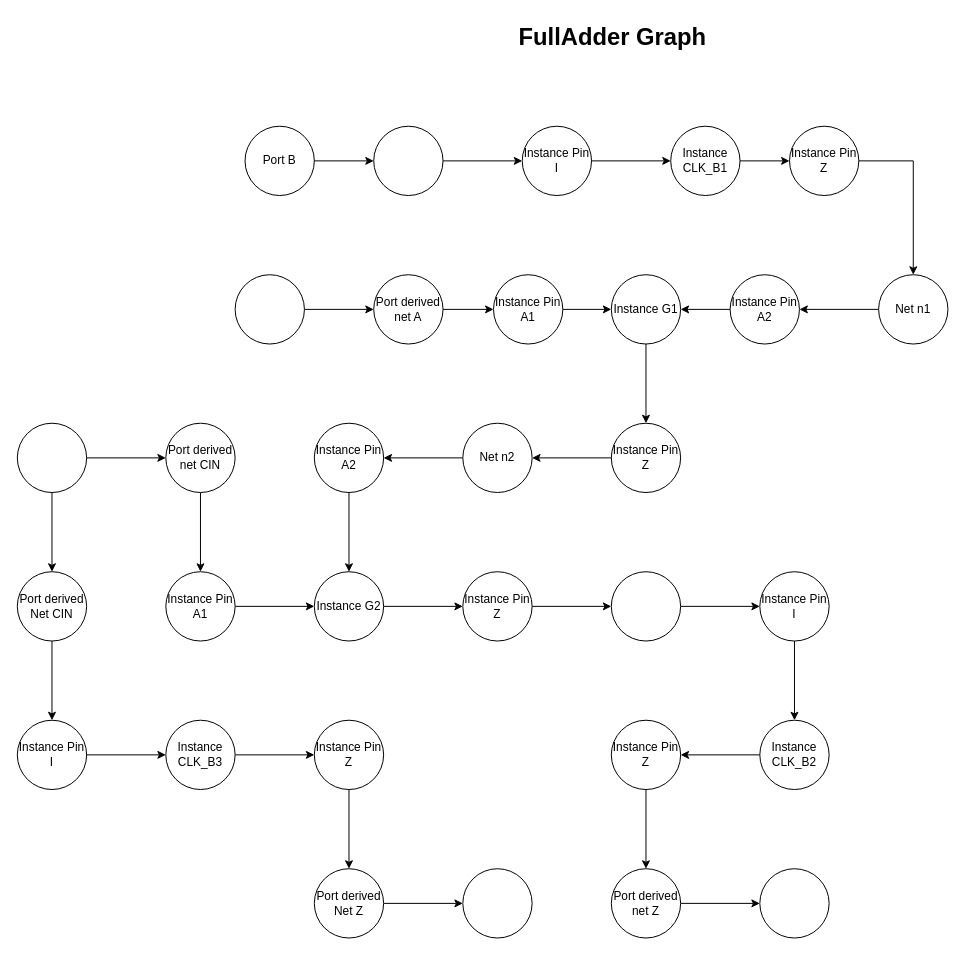
The diagram is 965 pixels wide and 955 high, and some of its shapes have lost their labels. Each missing label, with the centre of its shape:
"Net n8" goes at pixel 645 606.
"Port A" goes at pixel 269 309.
"Port CIN" goes at pixel 51 457.
"Port COUT" goes at pixel 497 903.
"Port derived net B" goes at pixel 408 160.
"Port SUM" goes at pixel 794 903.
